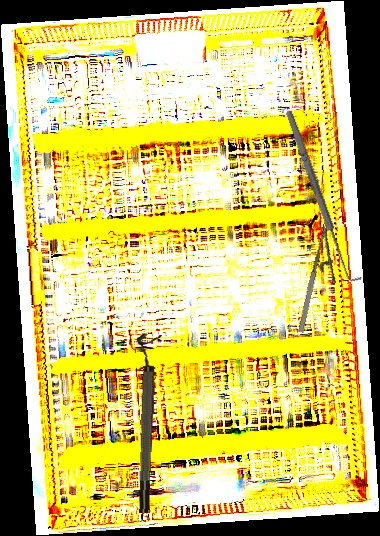Fixation Ring: (128, 333, 162, 514)
Hook Surgical: (282, 106, 363, 286)
Needle Holder: (294, 221, 351, 338)
